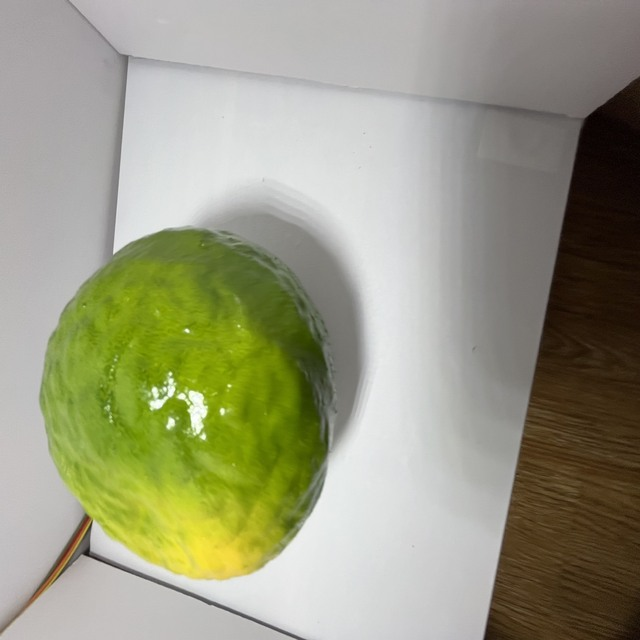Cam xanh: (34, 221, 344, 582)
